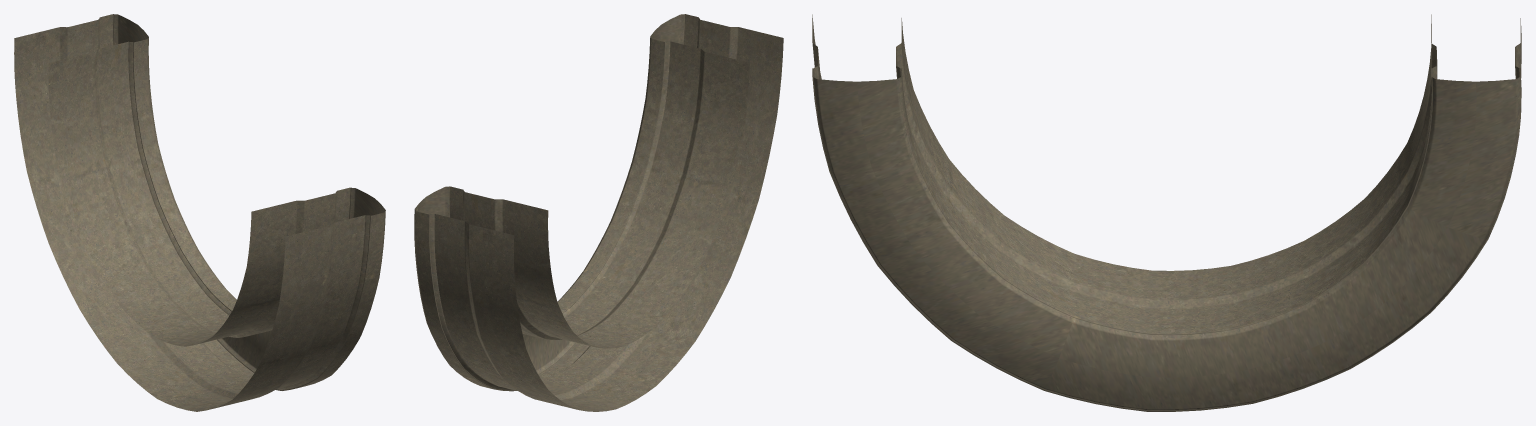
File: cP_Fence04_Curve.dae
3 views of the same model, side by side, from view 1: azimuth 30°, elevation 25°; view 2: azimuth 150°, elevation 25°; view 3: azimuth 270°, elevation 25° (orthographic). The views are drawn at different scales.
Visible parts, largest first — view 1: cP_Fence04_Curve.001; view 2: cP_Fence04_Curve.001; view 3: cP_Fence04_Curve.001.
Boxes of the visible parts, left/top/right/bottom form: cP_Fence04_Curve.001: left=14, top=14, right=385, bottom=411; cP_Fence04_Curve.001: left=414, top=14, right=783, bottom=411; cP_Fence04_Curve.001: left=812, top=14, right=1521, bottom=411.
Bounding box in the file's own units: 1.03 × 4.58 × 2.39.
